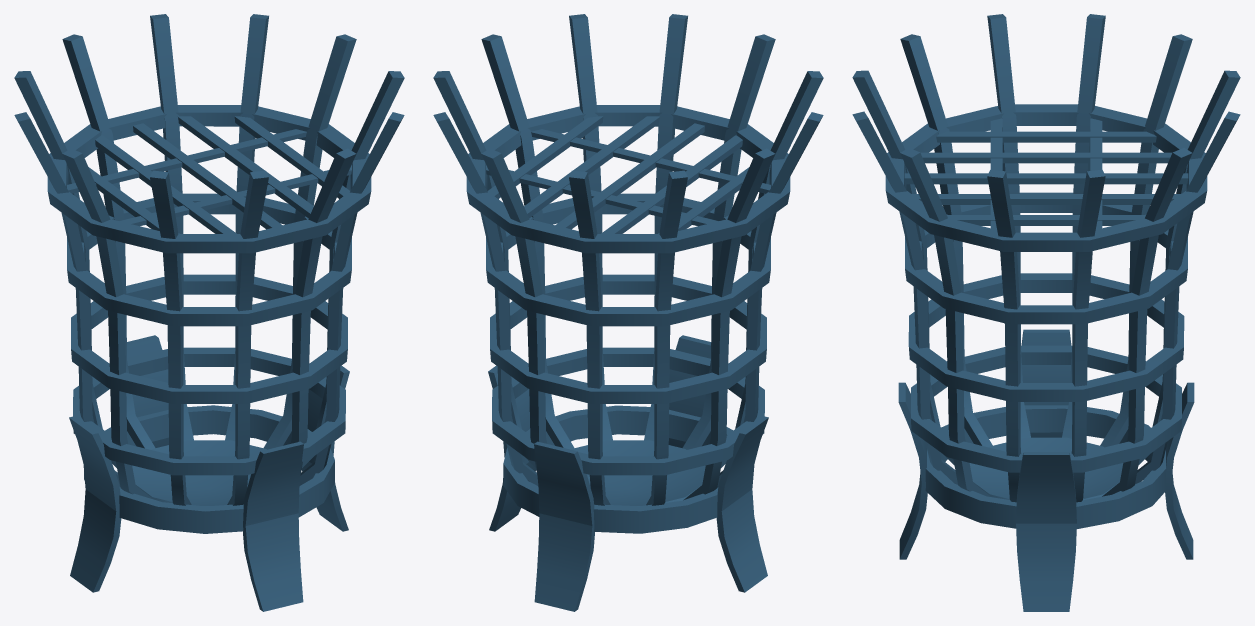
Rendered from FireCage01.fbx.
3 renders of one model, left to right at view 1: azimuth 30°, elevation 25°; view 2: azimuth 150°, elevation 25°; view 3: azimuth 270°, elevation 25°, orthographic.
Visible parts, largest first — view 1: fire_cage; view 2: fire_cage; view 3: fire_cage.
Boxes of the visible parts, x1=… form: fire_cage: x1=14, y1=14, x2=404, y2=611; fire_cage: x1=433, y1=14, x2=823, y2=611; fire_cage: x1=852, y1=14, x2=1240, y2=611.
Bounding box in the file's own units: 59.56 × 77.11 × 59.56.
